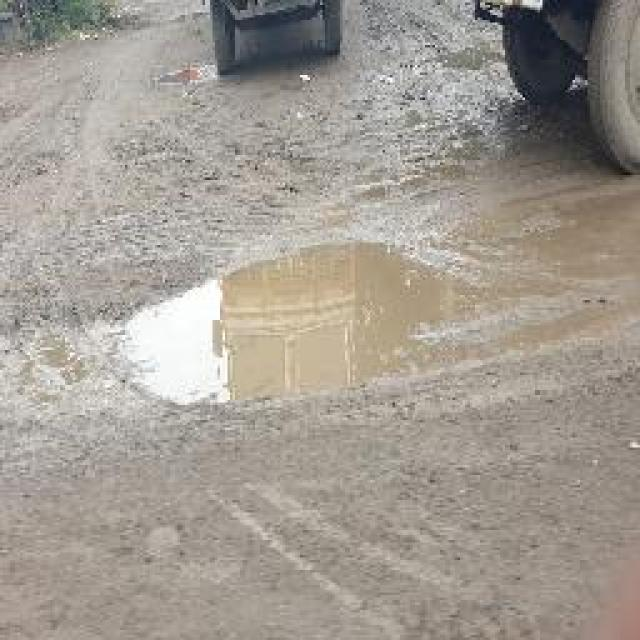waterlogging: (118, 242, 565, 412)
